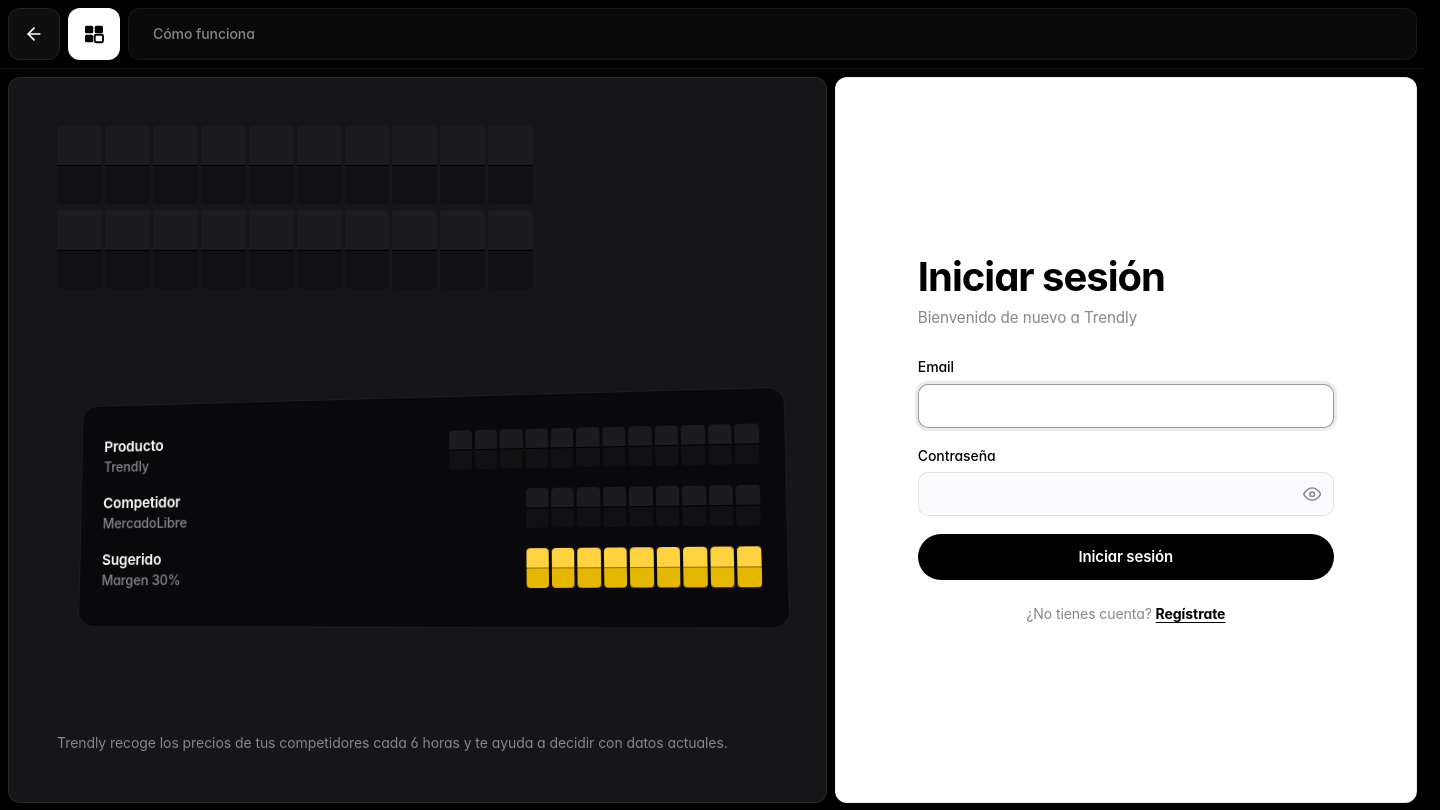
Test: inicio de sesión › avisa cuando Bloq Mayús está activado
The width and height of the screenshot is (1440, 810).
Click the password field labelled "Contraseña". click: point(1126, 494)
box: left=918, top=472, right=1334, bottom=516
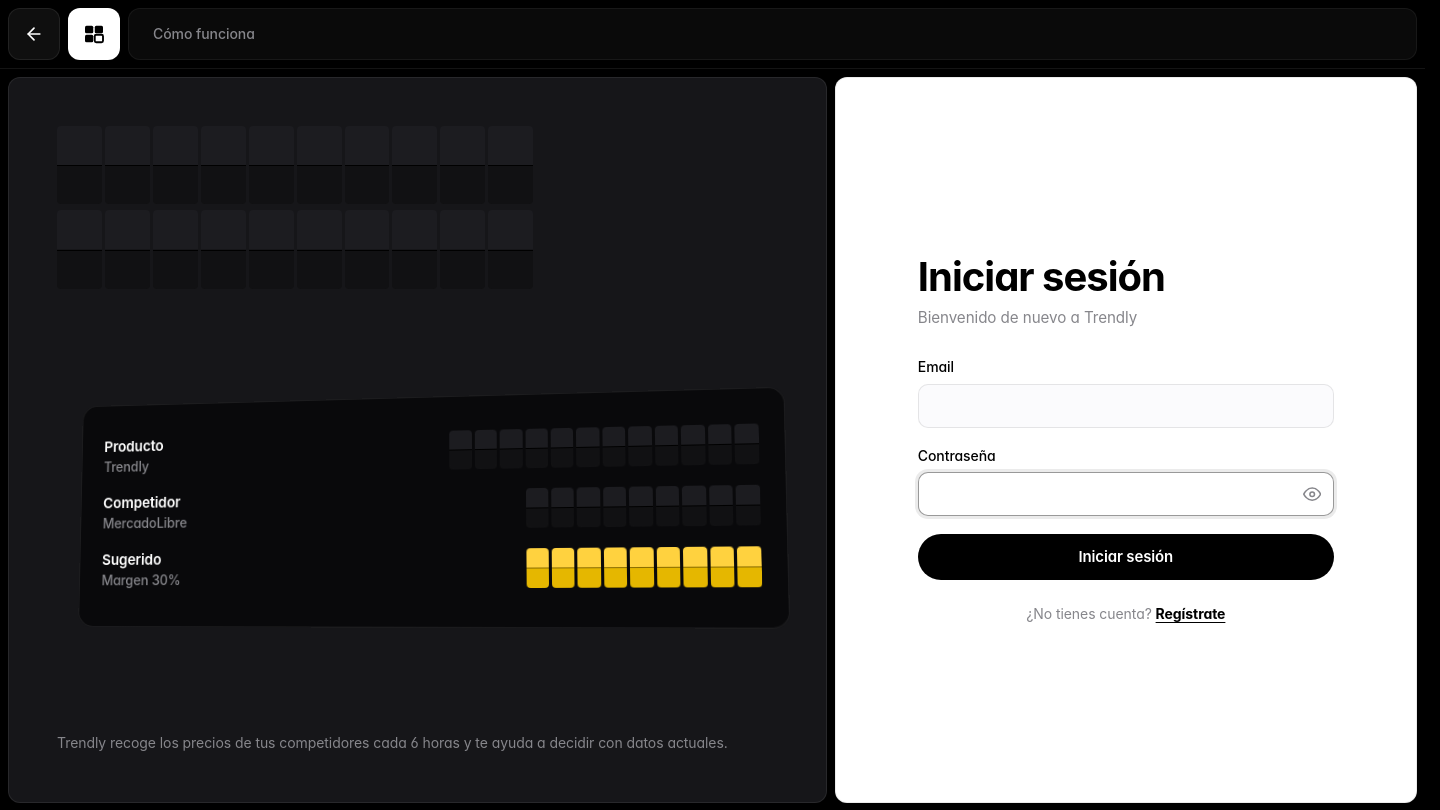
Press Capslock
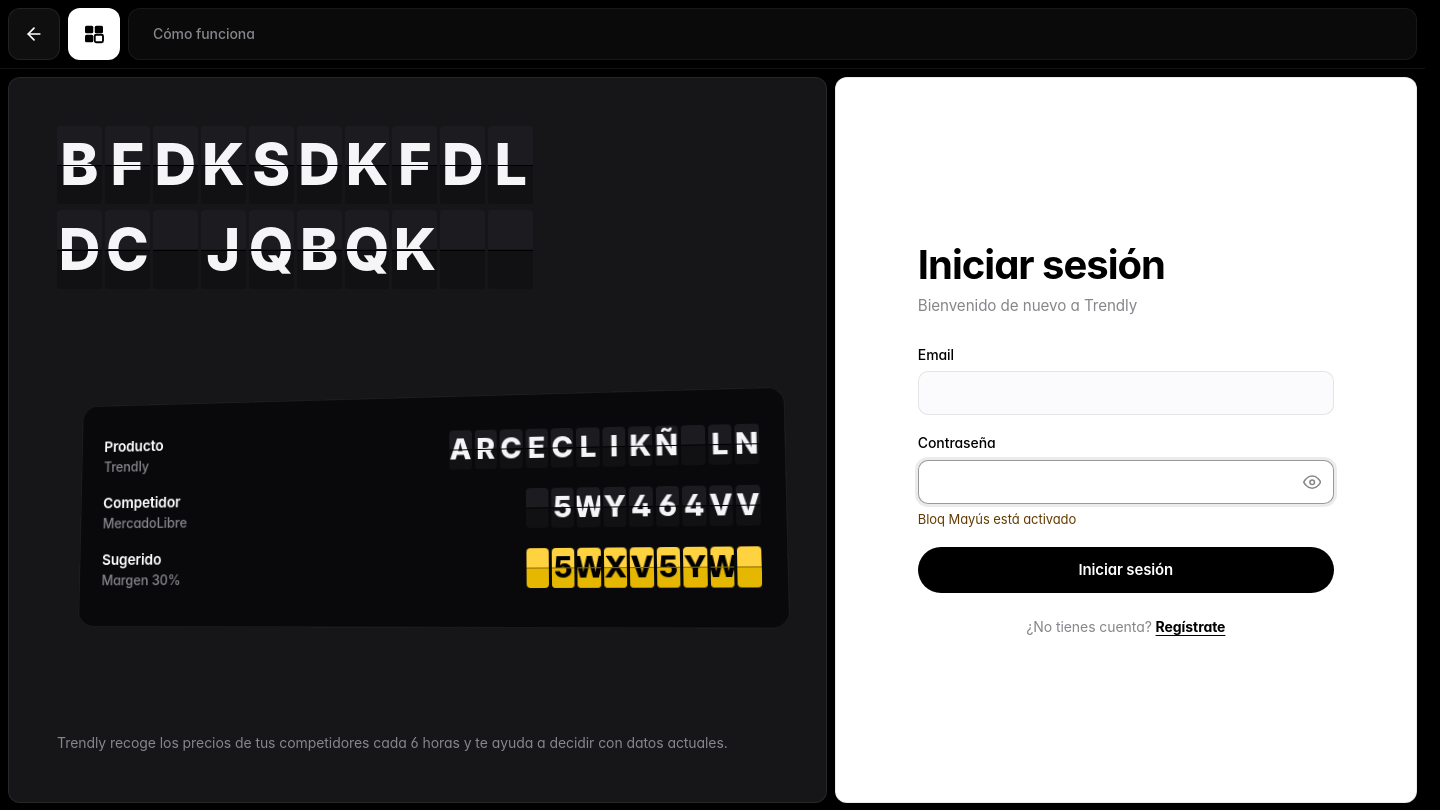
Check: the text "Bloq Mayús está activado" is shown, box left=918, top=511, right=1076, bottom=527
